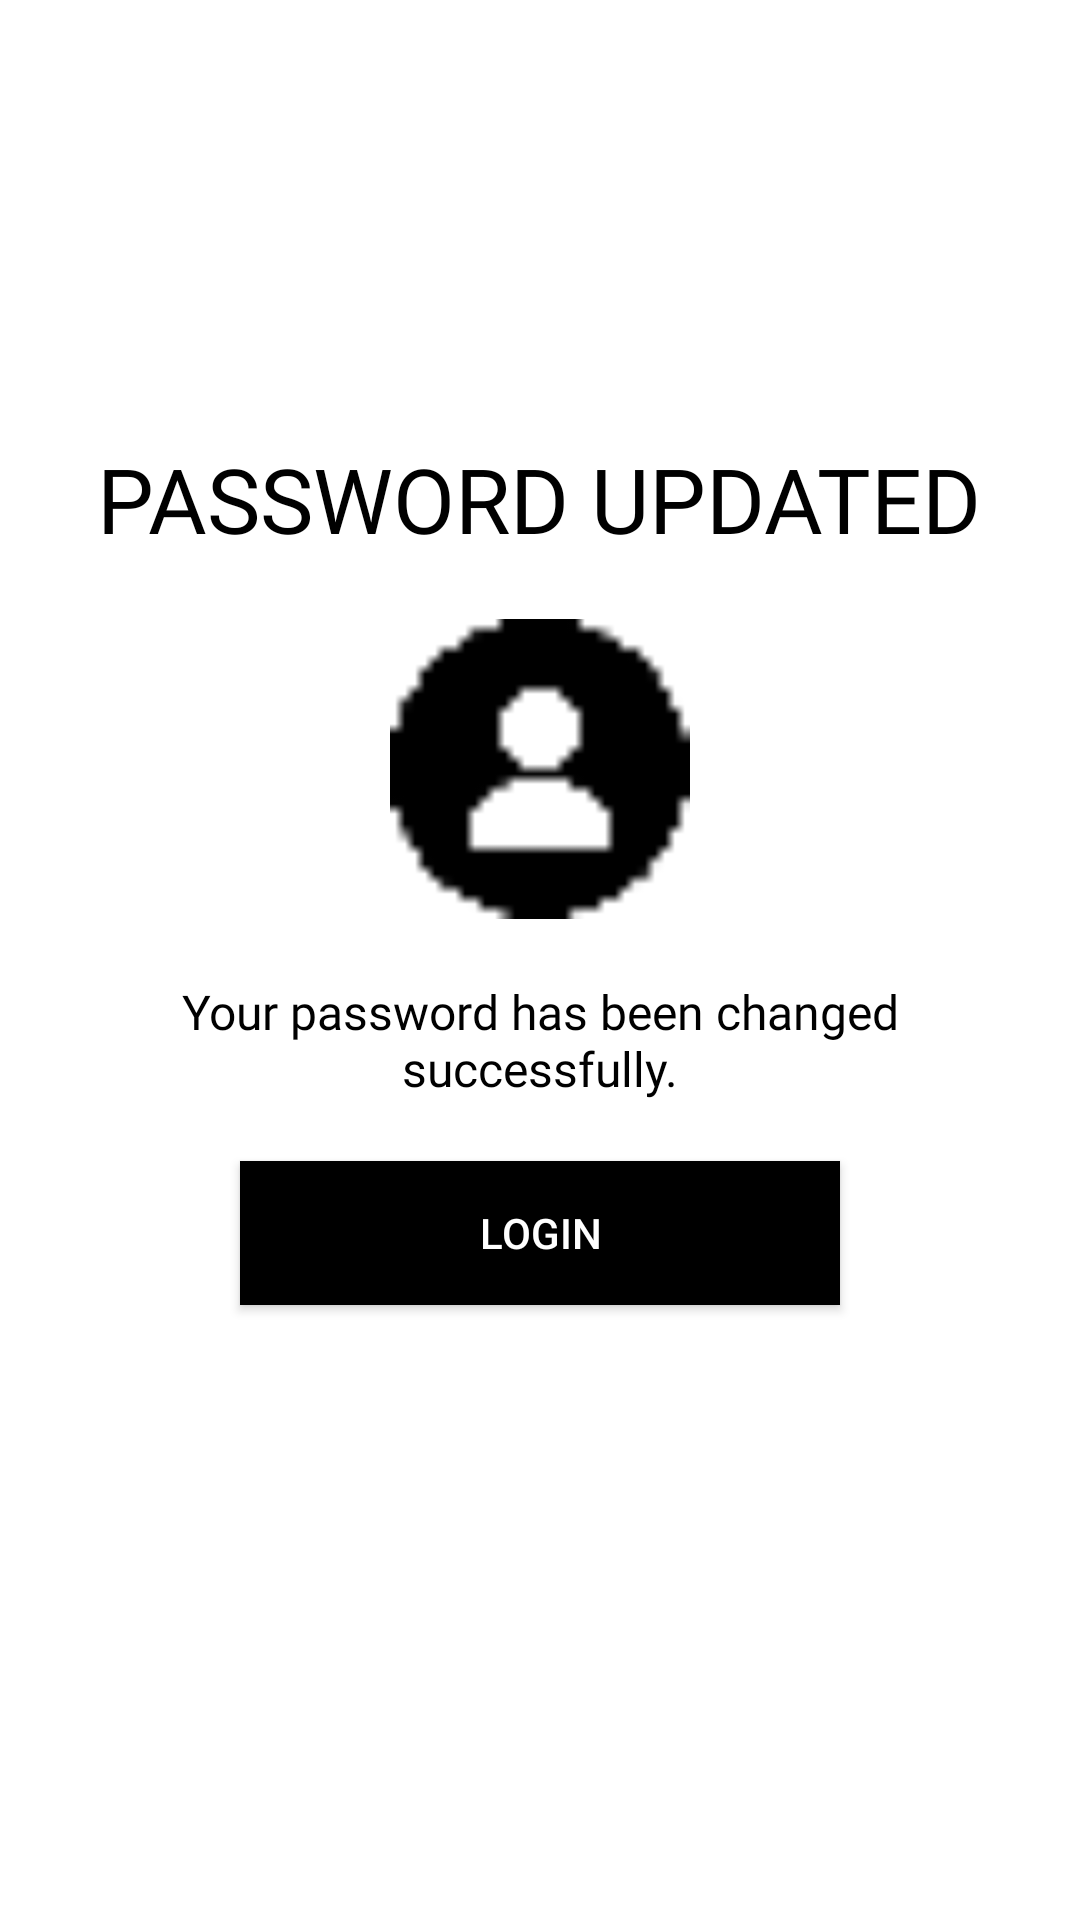

Named icons in this screenshot (1080*1920) and their bounding boxes, (x1, y1, x2, y2):
username: (390, 619, 690, 919)
